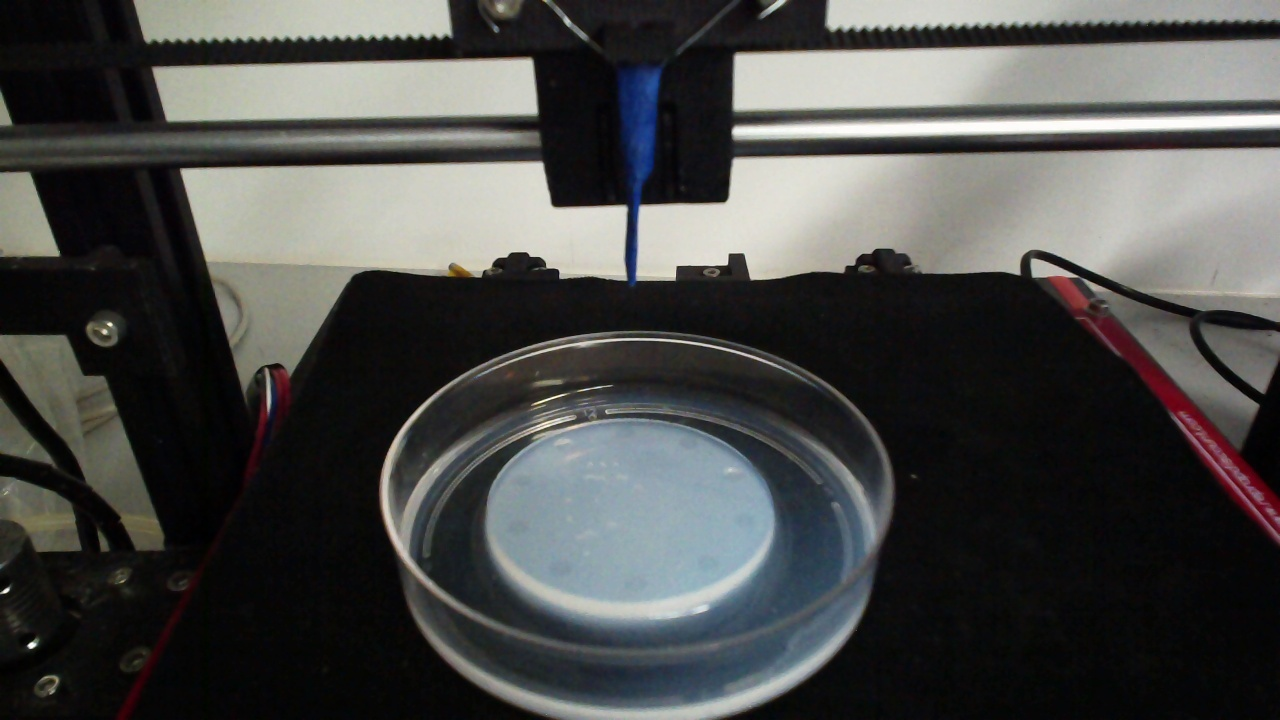groove: (502, 517, 532, 539), (622, 573, 651, 593), (545, 558, 574, 578), (694, 553, 720, 575), (551, 437, 580, 455), (722, 467, 749, 485), (510, 472, 537, 490), (733, 508, 755, 529), (676, 433, 698, 450), (612, 423, 635, 439)
needle: (623, 71, 657, 281)
